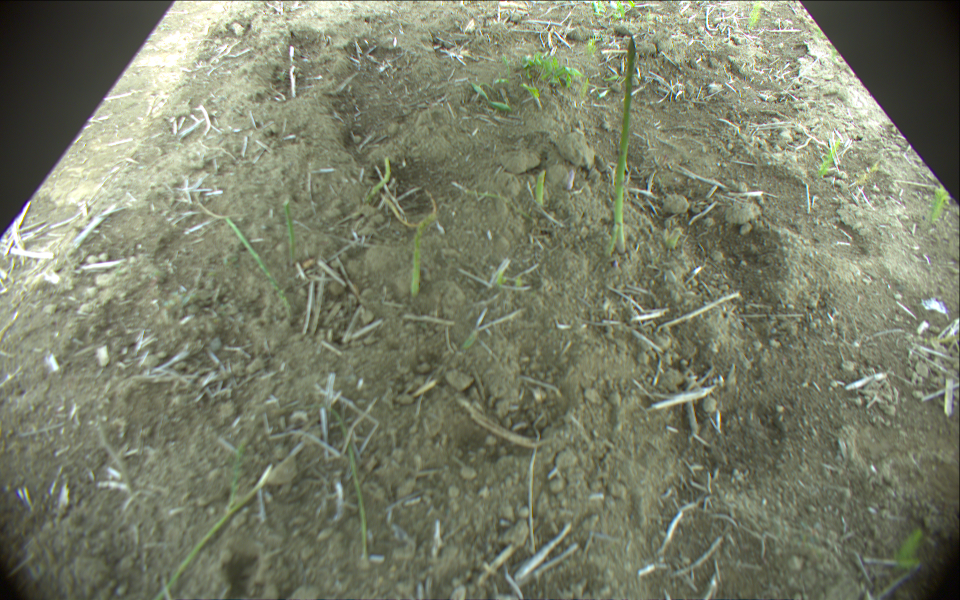aspa: (146, 467, 272, 600), (226, 218, 292, 328), (608, 37, 640, 253), (407, 218, 428, 300), (285, 198, 296, 264), (534, 167, 545, 209), (562, 167, 578, 192)
